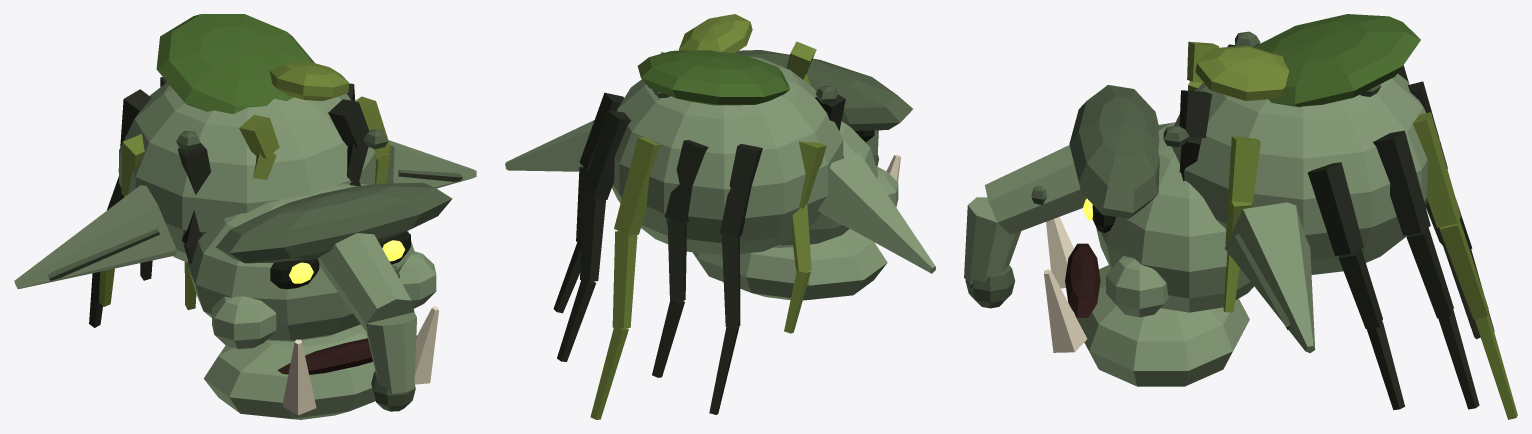
The model's file is troll_head.glb.
3 views of the same model, side by side, from view 1: azimuth 30°, elevation 25°; view 2: azimuth 150°, elevation 25°; view 3: azimuth 270°, elevation 25° (orthographic). The views are drawn at different scales.
Parts seen in each view (by area): view 1: troll_head; view 2: troll_head; view 3: troll_head.
Part boxes in pixels (x1=…): troll_head: x1=14, y1=14, x2=476, y2=419; troll_head: x1=505, y1=14, x2=935, y2=419; troll_head: x1=964, y1=14, x2=1517, y2=419.
Bounding box in the file's own units: 1.61 × 1.14 × 1.56.
